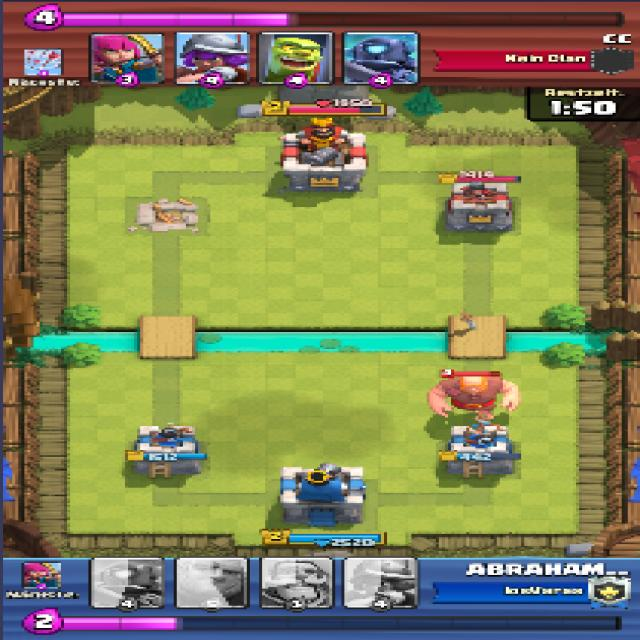Enemy-Giant: (429, 376, 522, 420)
